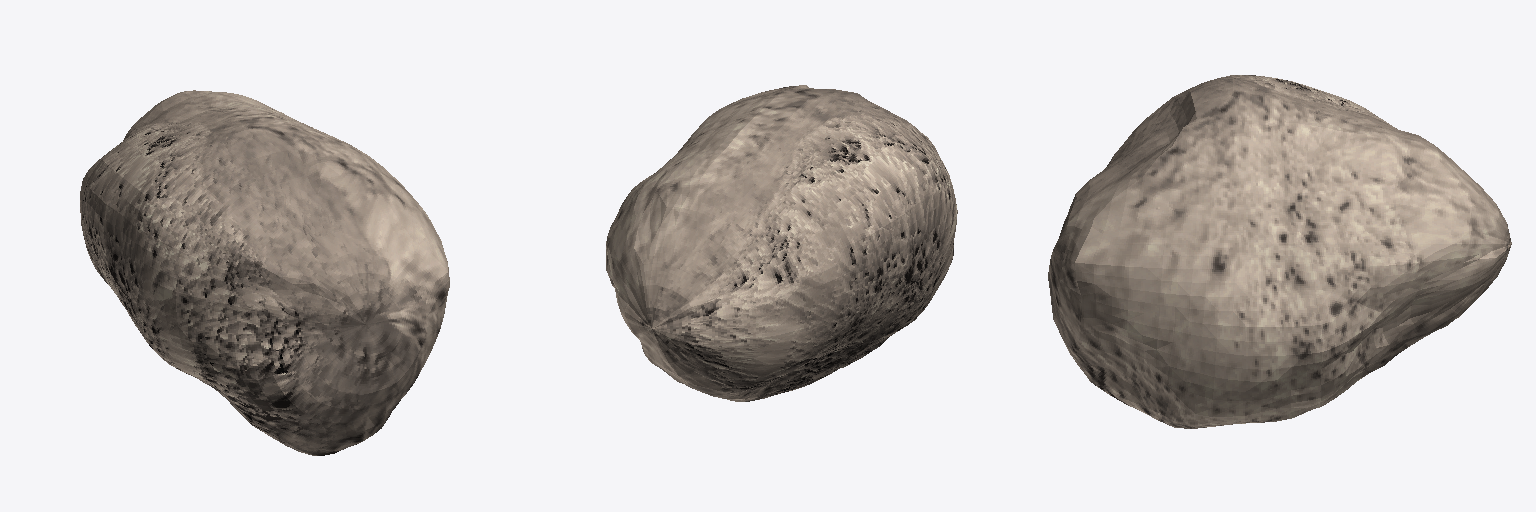
3 views of the same model, side by side, from view 1: azimuth 30°, elevation 25°; view 2: azimuth 150°, elevation 25°; view 3: azimuth 270°, elevation 25° (orthographic).
Size of the model in its own units: 253 by 250 by 347.
1 materials, 1 textured.